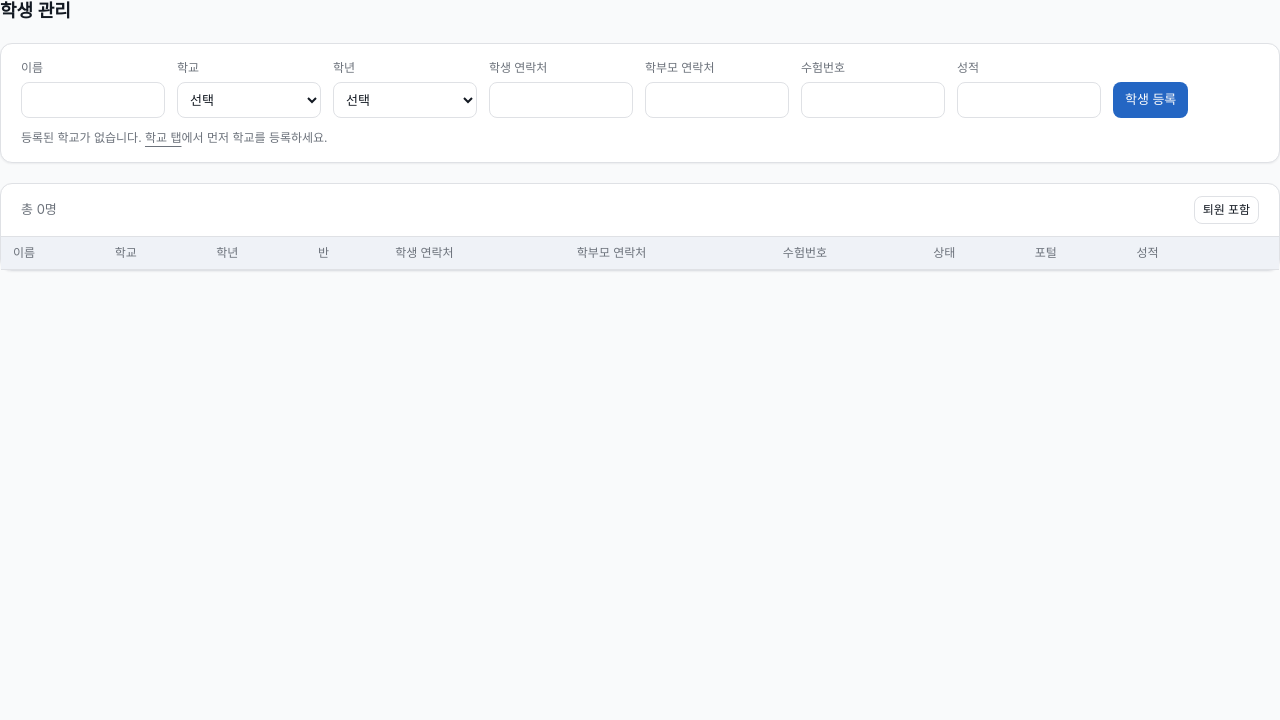
Scenario: StudentsPage › deletes a student from the edit dialog right away
Click the button "퇴원 포함": (1226, 210) [1194,196,1259,224]
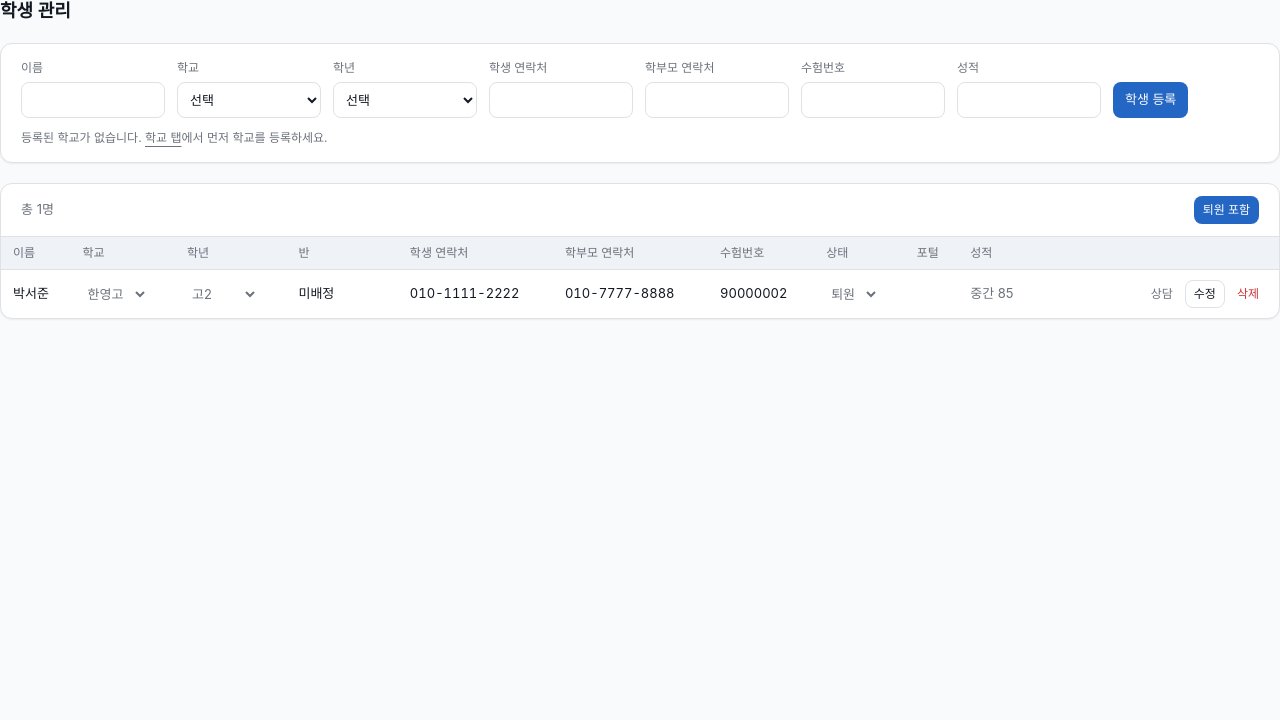
Click the button "수정": (1205, 294) [1185,280,1225,308]
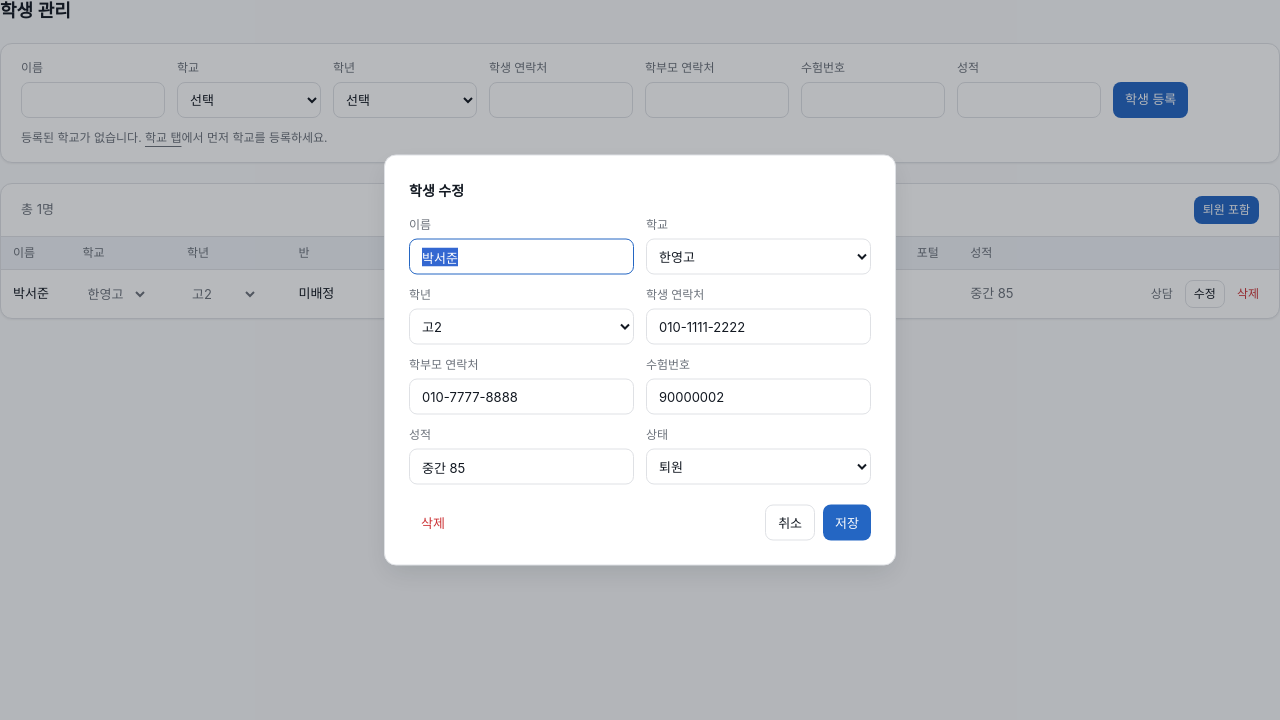
Click the button "삭제": (433, 522) [409,504,457,540]
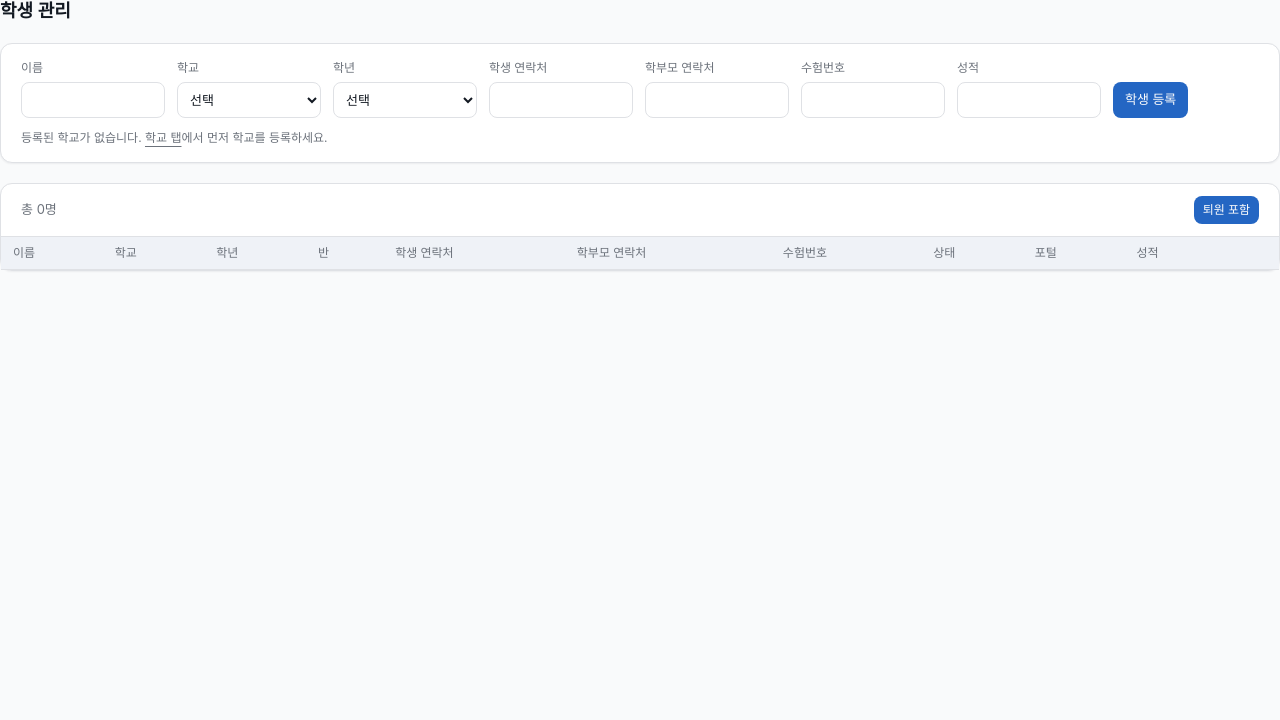
Result: the text "박서준" is gone
Result: the dialog is gone
